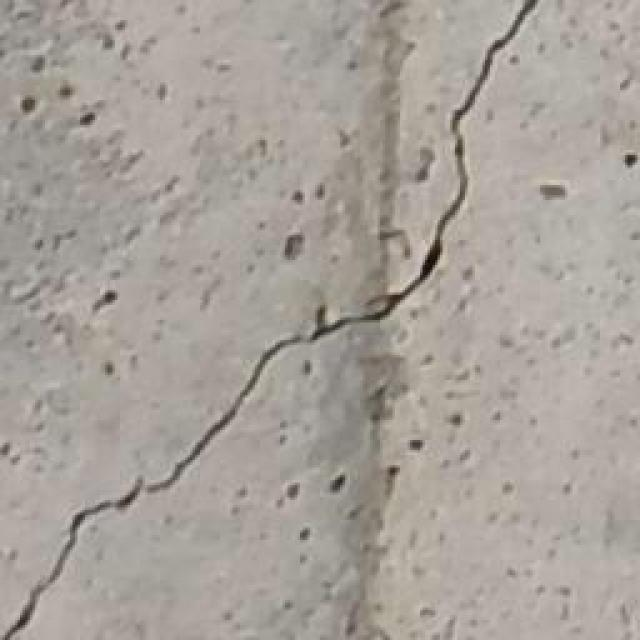concrete-crack: (0, 0, 540, 640)
